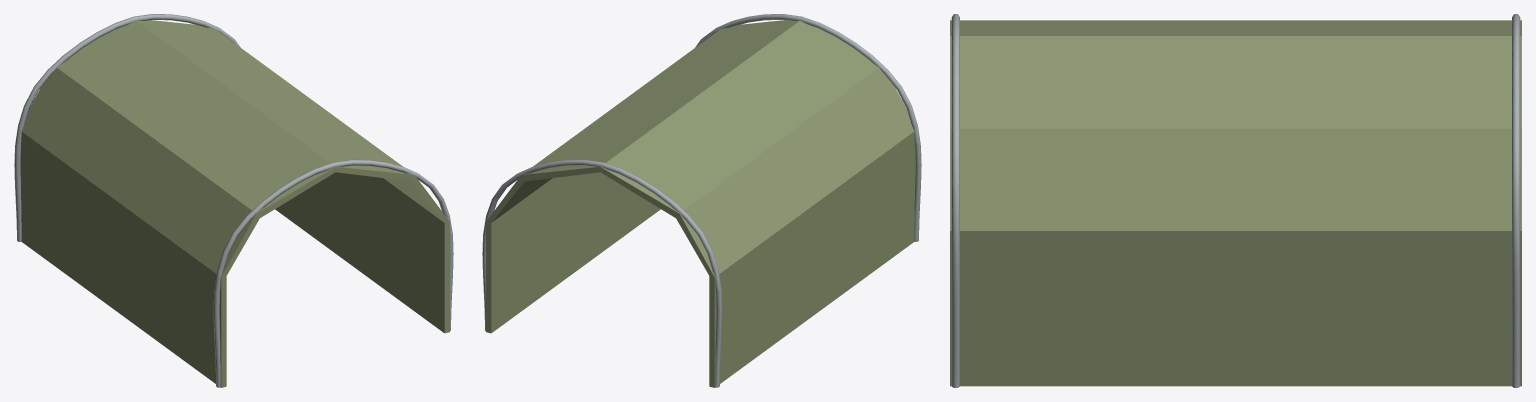
Rendered from wilderness-survival-camp-bivouac-hoop-shelter-1d5a0203.glb.
3 renders of one model, left to right at view 1: azimuth 30°, elevation 25°; view 2: azimuth 150°, elevation 25°; view 3: azimuth 270°, elevation 25°, orthographic. The views are drawn at different scales.
Visible parts, largest first — view 1: bivouac-hoop-shelter; view 2: bivouac-hoop-shelter; view 3: bivouac-hoop-shelter.
Part boxes in pixels (x1,y1,x2,y2): bivouac-hoop-shelter: (14, 14, 453, 387); bivouac-hoop-shelter: (482, 14, 921, 387); bivouac-hoop-shelter: (950, 14, 1521, 387).
Size of the model in its own units: 1.36 by 1.06 by 2.
